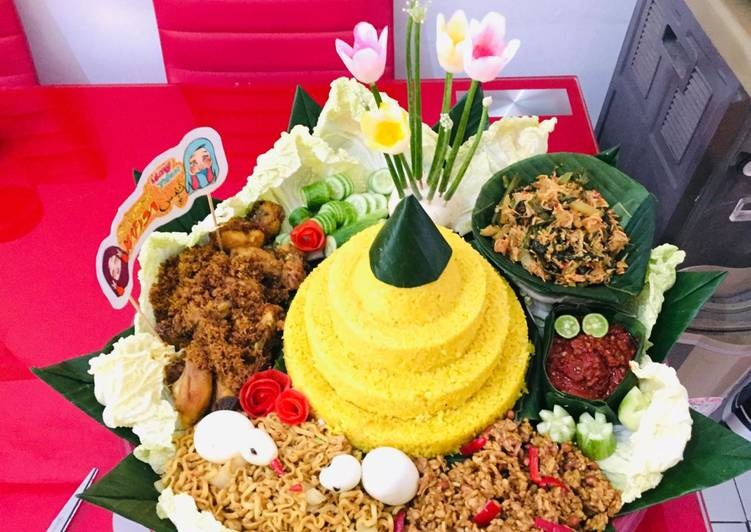tumpeng: (329, 186, 467, 335)
